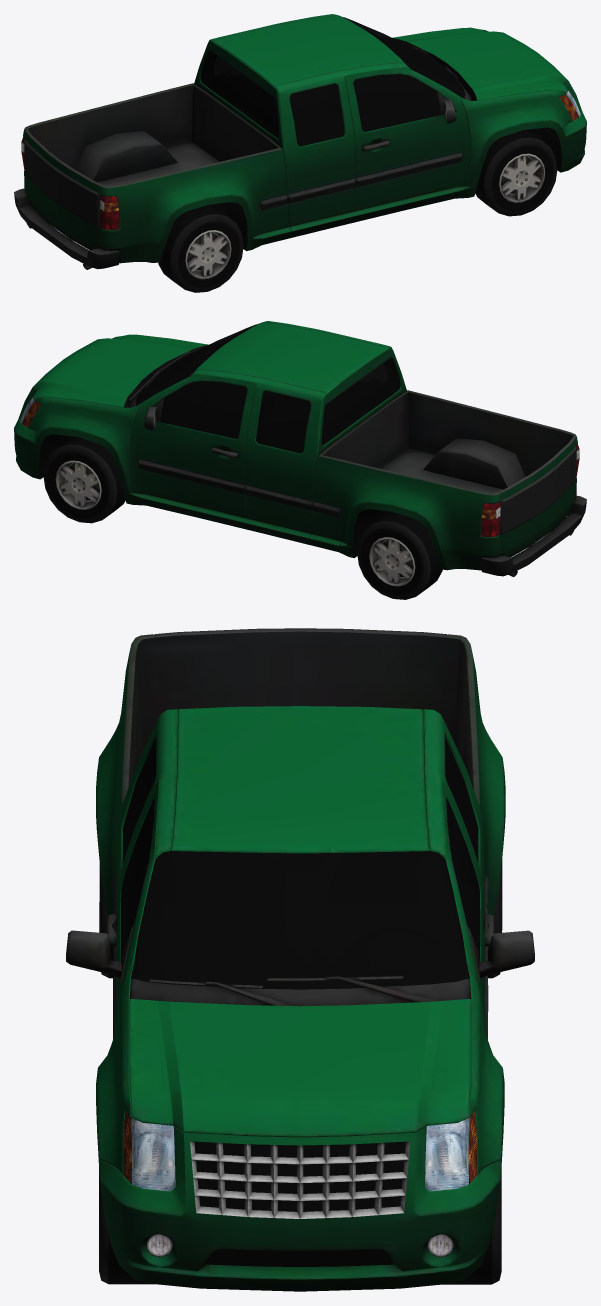
File: gpickup.glb
The picture shows the model from 3 angles, top to bottom: view 1: azimuth 30°, elevation 25°; view 2: azimuth 150°, elevation 25°; view 3: azimuth 270°, elevation 25°; orthographic projection. The views are drawn at different scales.
Parts seen in each view (by area): view 1: body, spin_RR, spin_FR; view 2: body, spin_RL, spin_FL; view 3: body, spin_FL, spin_FR.
Boxes of the visible parts, x1,y1,x2,y2 form: body: (14, 14, 586, 269); spin_RR: (158, 203, 243, 292); spin_FR: (475, 128, 557, 216); body: (14, 321, 586, 576); spin_RL: (357, 510, 442, 599); spin_FL: (43, 435, 125, 523); body: (66, 628, 534, 1291); spin_FL: (443, 1169, 501, 1284); spin_FR: (99, 1169, 154, 1284).
Bounding box in the file's own units: 5.2 × 1.7 × 2.08.
Materials: 4 (3 with a texture image).
